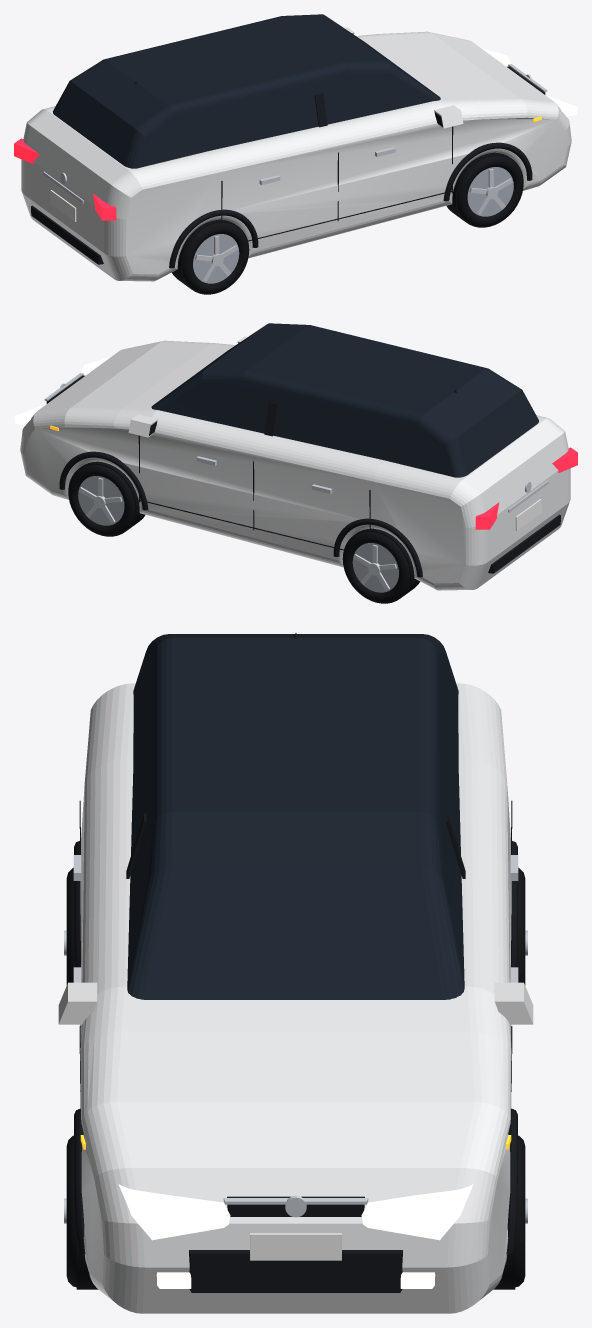
The model's file is car_hatchback.glb.
The picture shows the model from 3 angles, top to bottom: view 1: azimuth 30°, elevation 25°; view 2: azimuth 150°, elevation 25°; view 3: azimuth 270°, elevation 25°; orthographic projection. The views are drawn at different scales.
Visible parts, largest first — view 1: body_shell, glass_cabin, wheel_RR_sidewall, wheel_FR_sidewall, wheel_FR_rim, wheel_RR_rim, arch_R_R, arch_F_R, rear_diffuser, wheel_RR_tire, wheel_FR_tire, mirror_R (+3 smaller); view 2: body_shell, glass_cabin, wheel_RL_sidewall, wheel_FL_sidewall, wheel_FL_rim, wheel_RL_rim, arch_R_L, arch_F_L, rear_diffuser, wheel_RL_tire, wheel_FL_tire, mirror_L (+3 smaller); view 3: body_shell, glass_cabin, grille_lower, headlight_L, headlight_R, plate_front, grille_upper, mirror_R, mirror_L, wheel_FL_sidewall, wheel_FR_sidewall, arch_F_L (+4 smaller).
Boxes of the visible parts, x1,y1,x2,y2 form: body_shell: (21,31,571,281); glass_cabin: (53,14,440,168); wheel_RR_sidewall: (182,222,248,293); wheel_FR_sidewall: (456,155,523,226); wheel_FR_rim: (467,167,513,216); wheel_RR_rim: (193,234,239,283); arch_R_R: (169,209,258,268); arch_F_R: (443,142,532,201); rear_diffuser: (31,205,103,264); wheel_RR_tire: (171,219,249,294); wheel_FR_tire: (446,152,523,227); mirror_R: (434,105,463,128); body_shell: (20,340,570,590); glass_cabin: (151,323,538,477); wheel_RL_sidewall: (343,531,409,602); wheel_FL_sidewall: (68,464,135,535); wheel_FL_rim: (78,476,124,525); wheel_RL_rim: (352,543,398,592); arch_R_L: (333,518,422,577); arch_F_L: (59,451,148,510); rear_diffuser: (488,514,560,573); wheel_RL_tire: (342,528,420,603); wheel_FL_tire: (68,461,145,536); mirror_L: (128,414,157,437); body_shell: (80,683,511,1313); glass_cabin: (127,634,464,999); grille_lower: (189,1250,402,1292); headlight_L: (361,1184,473,1240); headlight_R: (118,1184,230,1240); plate_front: (250,1233,341,1260); grille_upper: (227,1196,364,1216); mirror_R: (58,982,97,1024); mirror_L: (494,982,533,1024); wheel_FL_sidewall: (515,1135,525,1287); wheel_FR_sidewall: (66,1135,76,1287); arch_F_L: (506,1108,517,1254).
Size of the model in its own units: 4.42 by 1.56 by 1.87.
